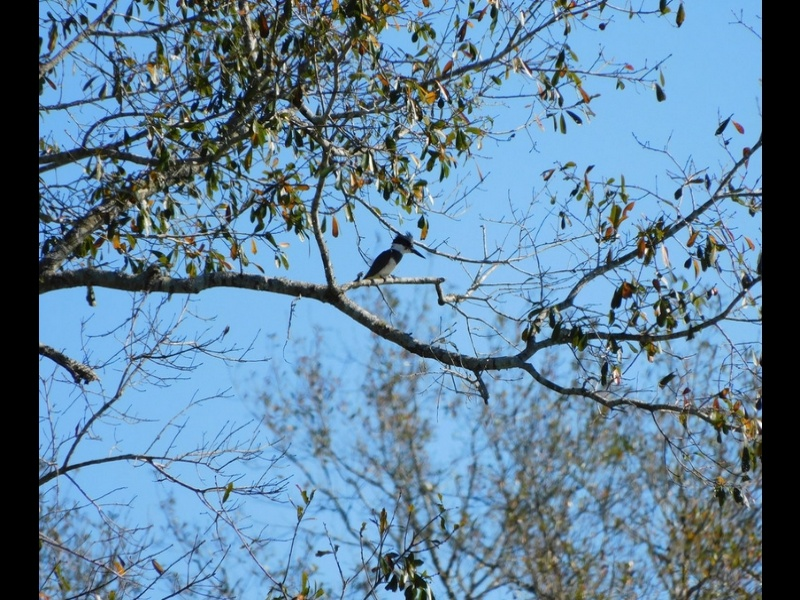kingfisher: (357, 232, 425, 291)
